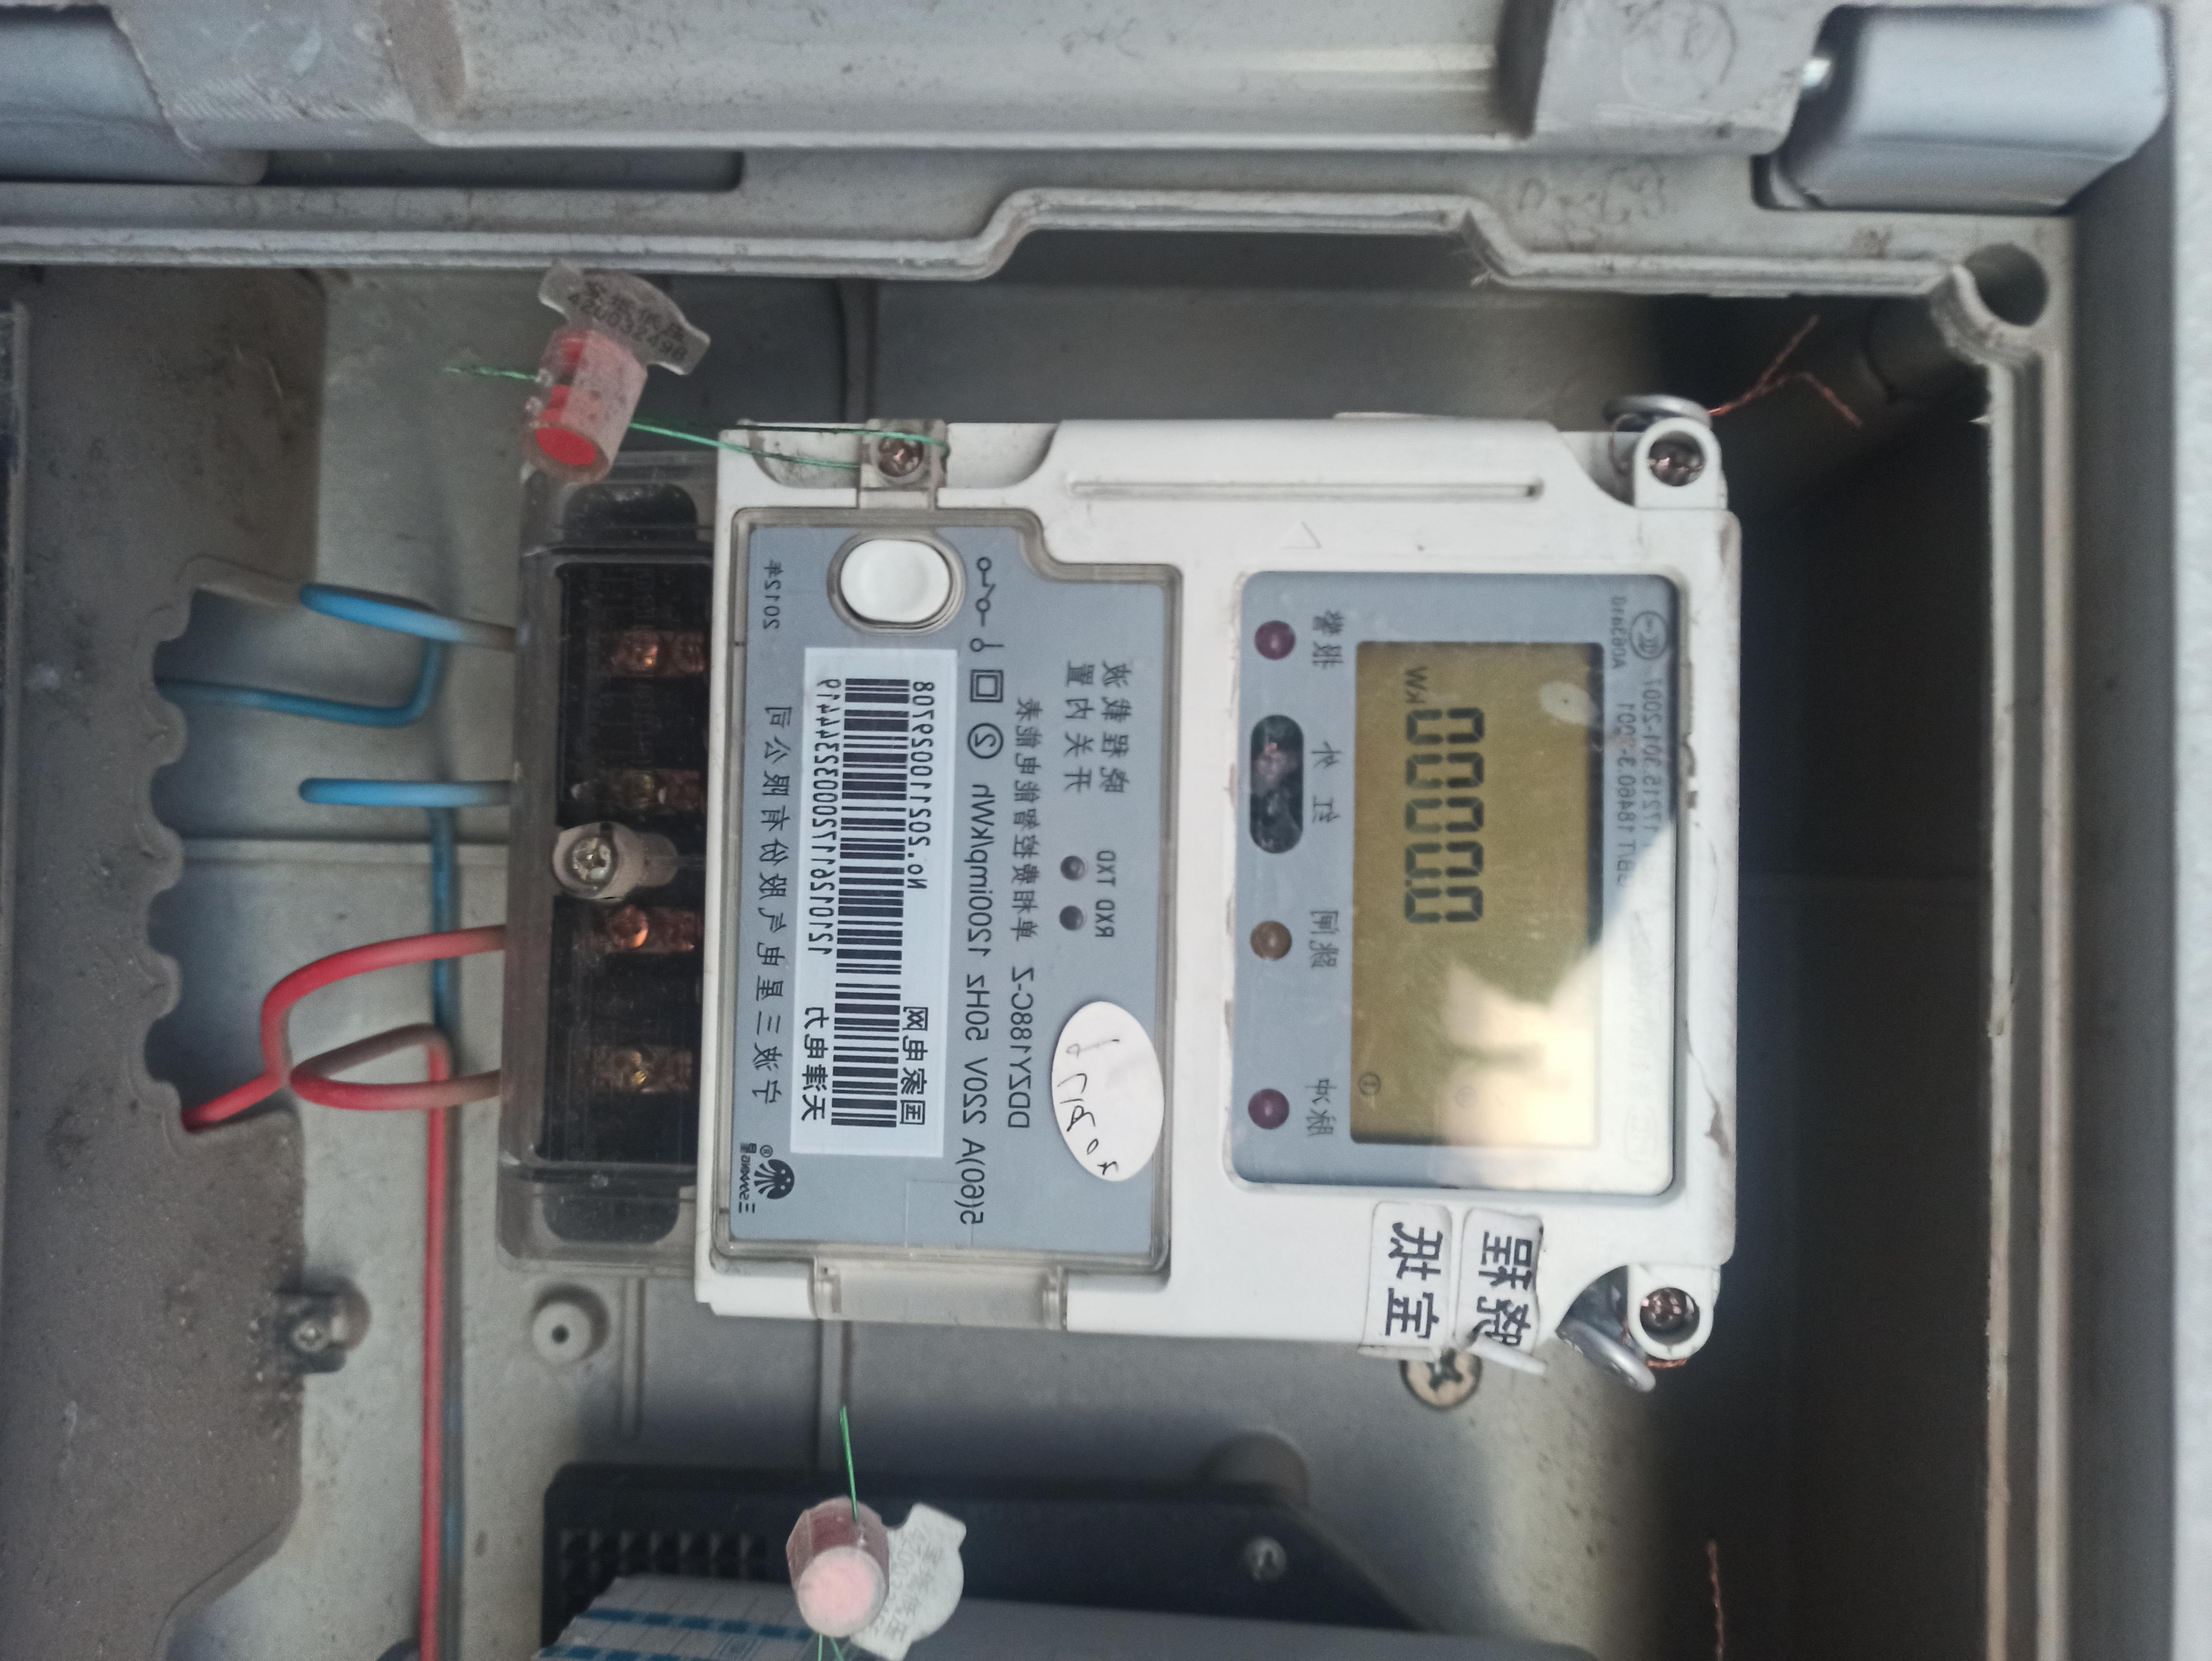digital: (693, 419, 1736, 1350)
